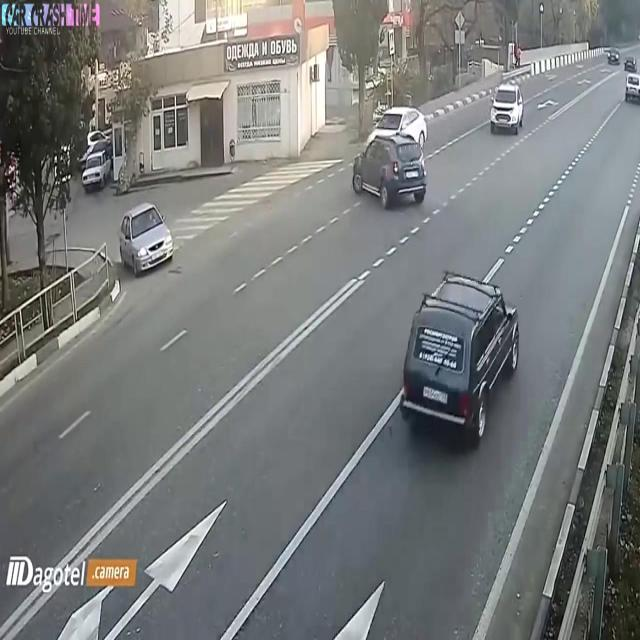accident: (348, 97, 436, 219)
